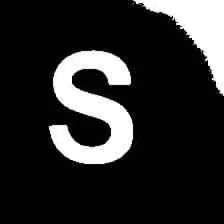LTR_S: (42, 46, 139, 171)
